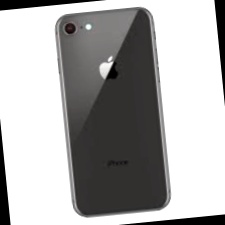iphone: (63, 10, 163, 215)
